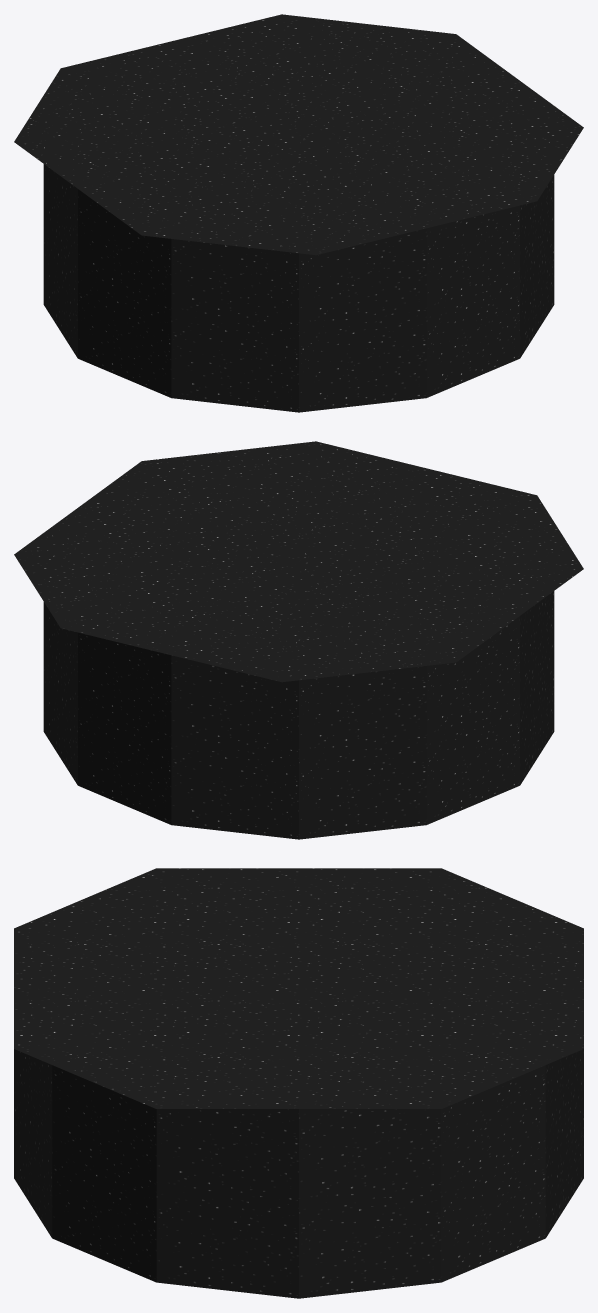
The model's file is recovered_map_m73.glb.
3 renders of one model, top to bottom at view 1: azimuth 30°, elevation 25°; view 2: azimuth 150°, elevation 25°; view 3: azimuth 270°, elevation 25°, orthographic. The views are drawn at different scales.
Visible parts, largest first — view 1: S_stars01; view 2: S_stars01; view 3: S_stars01.
Boxes of the visible parts, x1,y1,x2,y2 form: S_stars01: (14, 14, 583, 412); S_stars01: (14, 441, 583, 839); S_stars01: (14, 868, 583, 1298).
Size of what is drawn, in the model's own units: 410 by 150 by 410.
141 materials, 141 textured.
